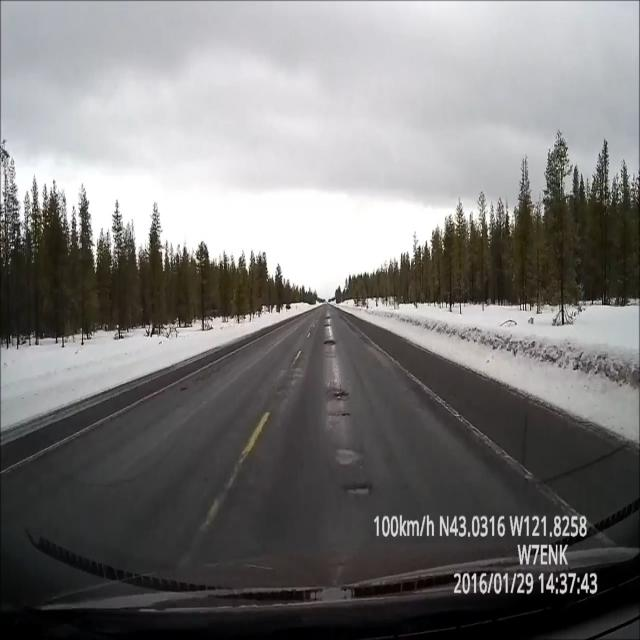Pothole: (337, 473, 380, 513), (322, 373, 348, 409), (312, 319, 342, 350)
